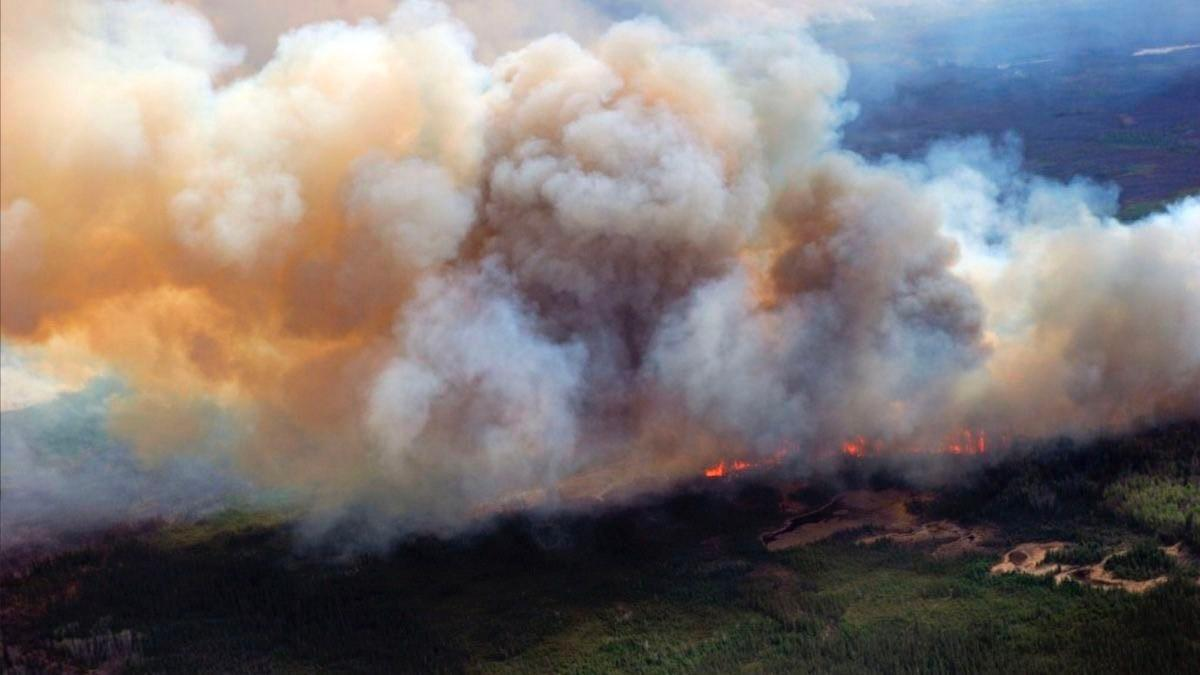fire: (823, 423, 1008, 471), (690, 449, 762, 482)
smoke: (4, 6, 1191, 416)
